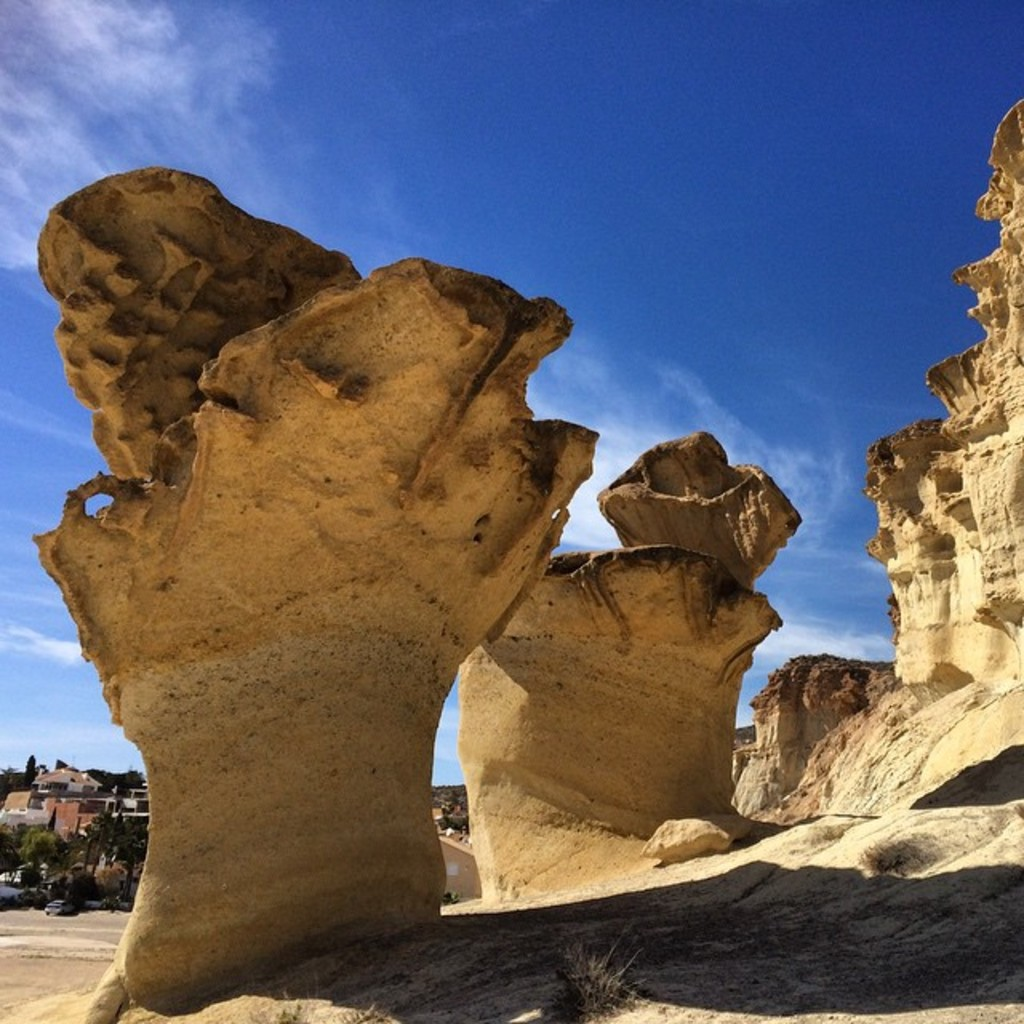Tree: (0, 817, 97, 889), (84, 801, 134, 896), (92, 760, 142, 796), (0, 745, 33, 790)
